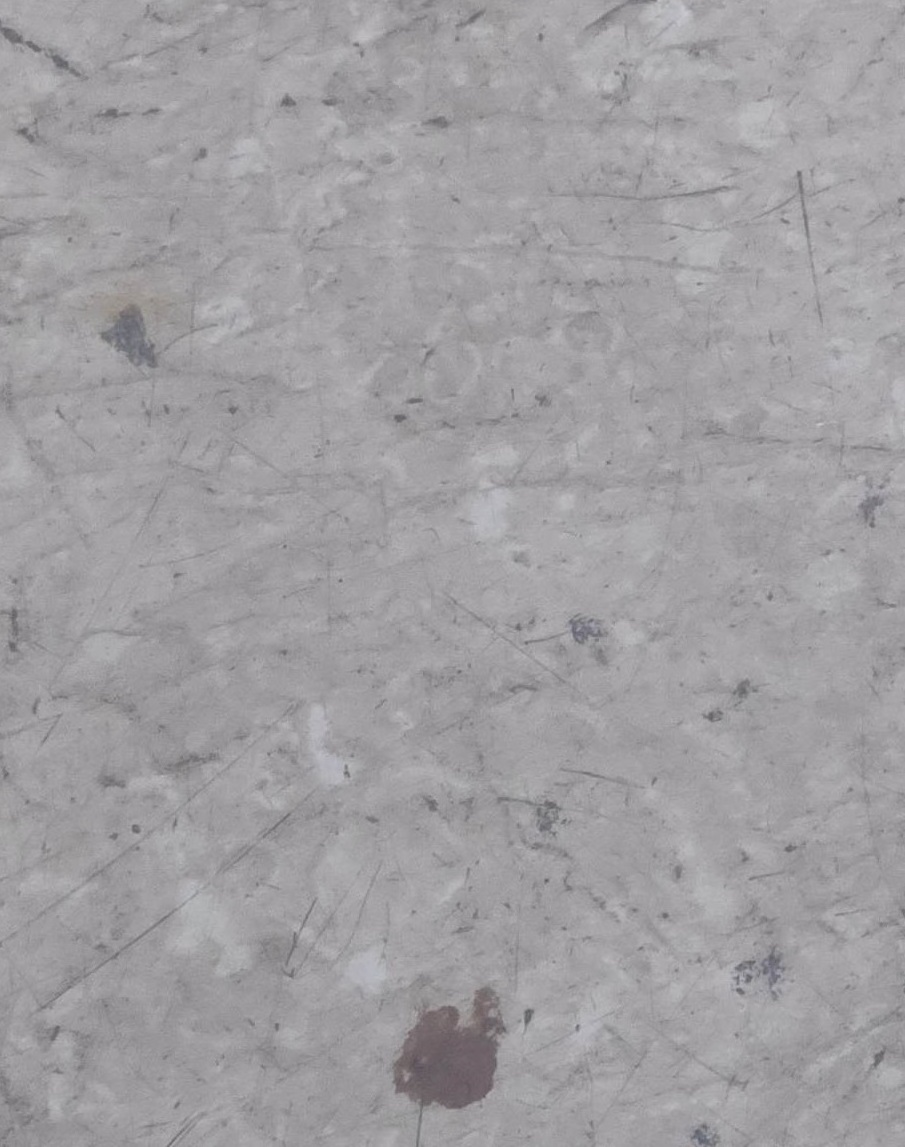grey spot: (393, 985, 507, 1110), (98, 304, 162, 367)
